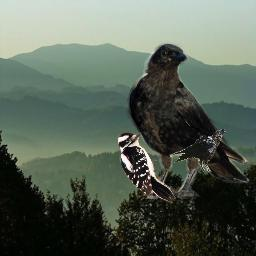Crow: (126, 42, 249, 199), (172, 129, 227, 172)
Woodpecker: (117, 132, 176, 204)
